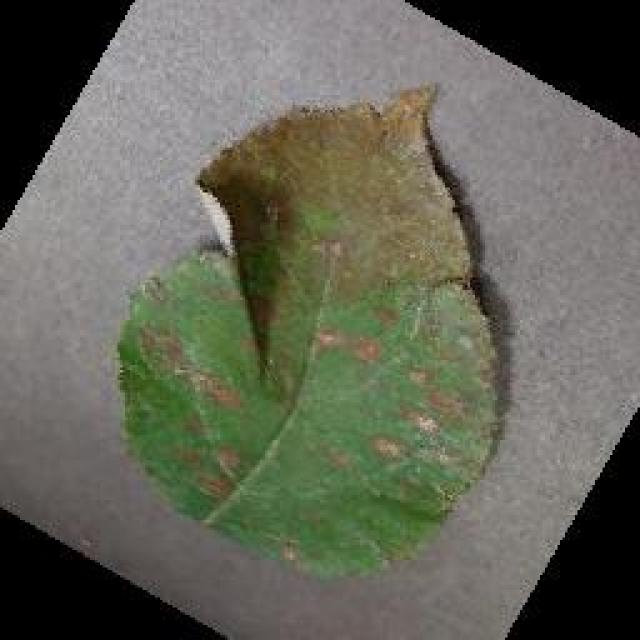apple healthy: (112, 80, 510, 582)
